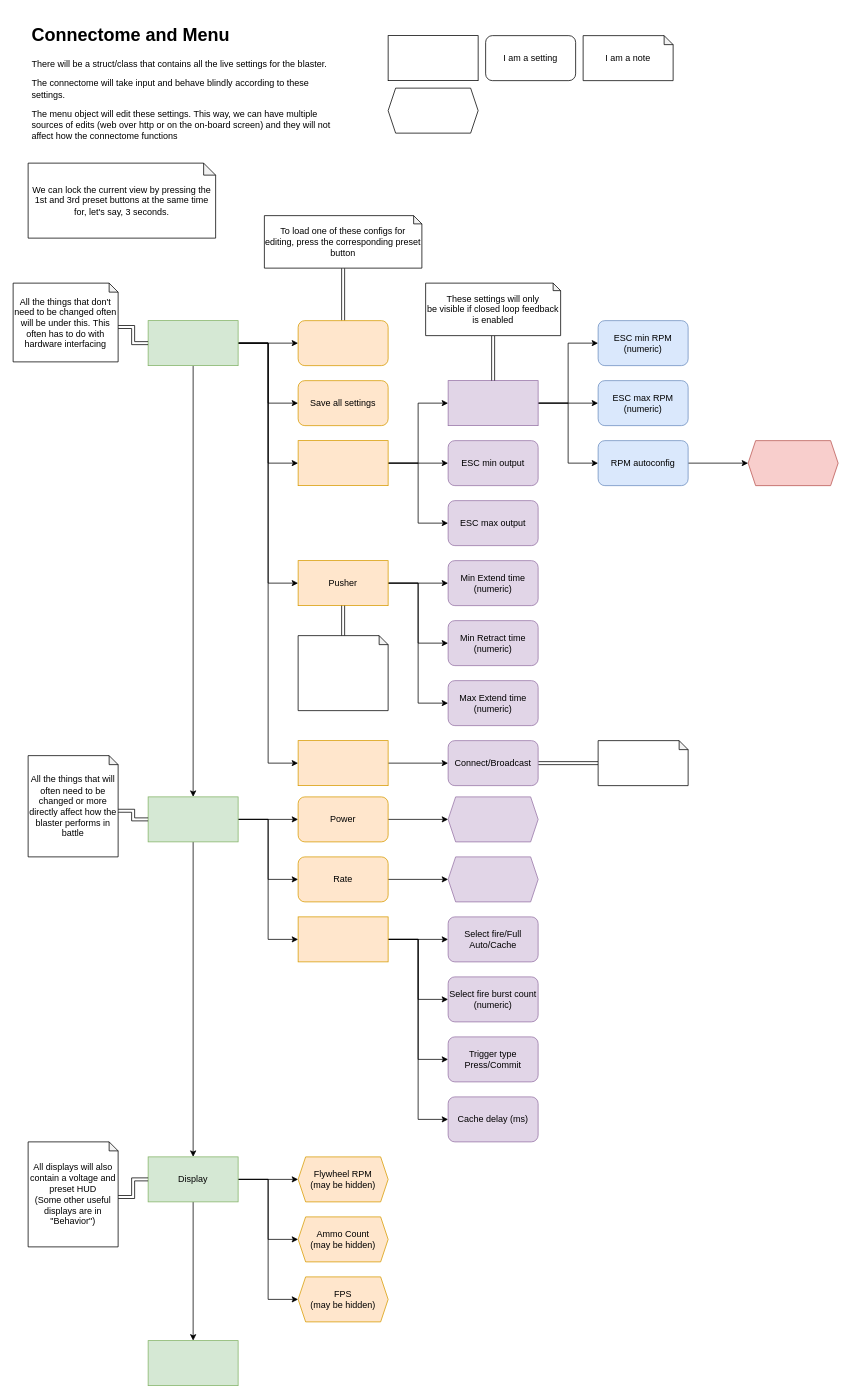
Image size: 851x1399. Some labels were removed from this diagram. The shapes that lost their labels are listed below. From the top down, each one's centre as x and y in pixels, then its label:
At point (432, 58): "I am a sub-menu".
At point (432, 110): "I am a display".
At point (192, 343): "Settings".
At point (342, 343): "Bind current config to preset A/B/C".
At point (492, 403): "Feedback (may be hidden)".
At point (342, 463): "ESCs".
At point (792, 463): "Gauge (show) Current single motor RPM".
At point (342, 673): "The settings seen in here depend on the backend configured".
At point (342, 763): "Wifi".
At point (642, 763): "To be honest, I haven't even begun to look at this stuff yet".
At point (192, 819): "Behavior".
At point (492, 819): "Gauge (set) Min-Max flywheel speed".
At point (492, 879): "Gauge (set) Min-Max push rate".
At point (342, 939): "Mode".
At point (192, 1363): "Return (go to last view screen)".
